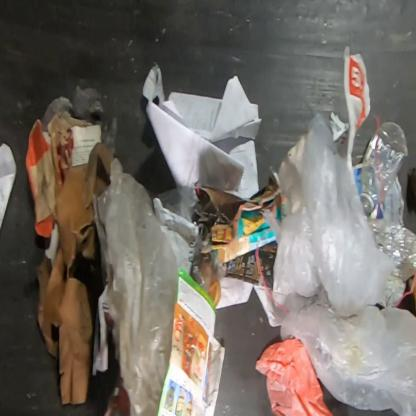cardboard: (35, 142, 110, 406), (24, 109, 97, 239), (192, 169, 283, 267)
rigid_plastic: (360, 118, 409, 216), (379, 224, 415, 280)
soft_plastic: (271, 111, 415, 415), (92, 157, 179, 415), (40, 86, 118, 158)
